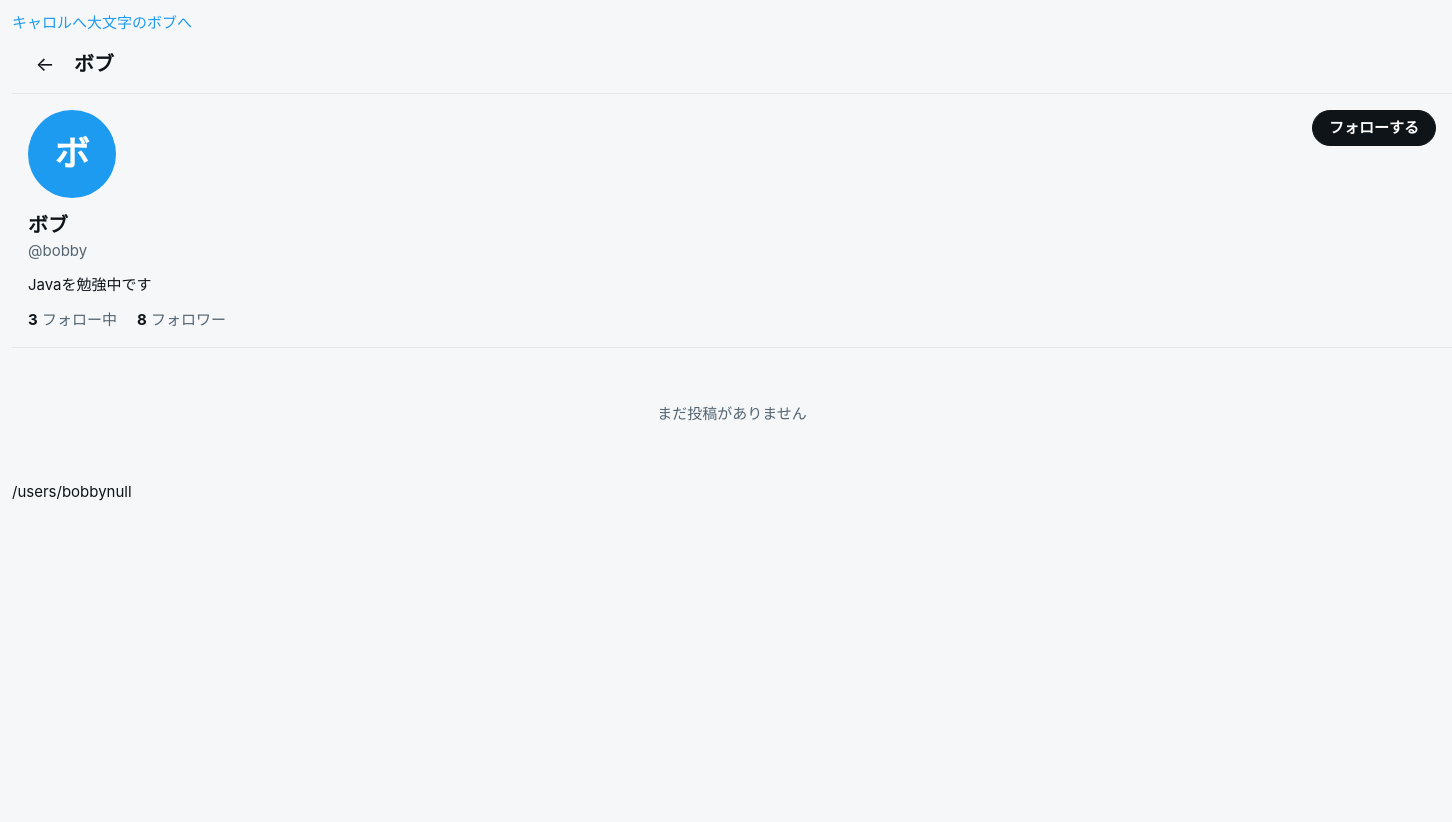
Test case: ProfilePage：プロフィール（状態遷移） › フォローに失敗したら、エラーを知らせる
This screenshot has width=1452, height=822.
Click the button "フォローする". click: (1374, 128)
box: [1312,110,1436,146]
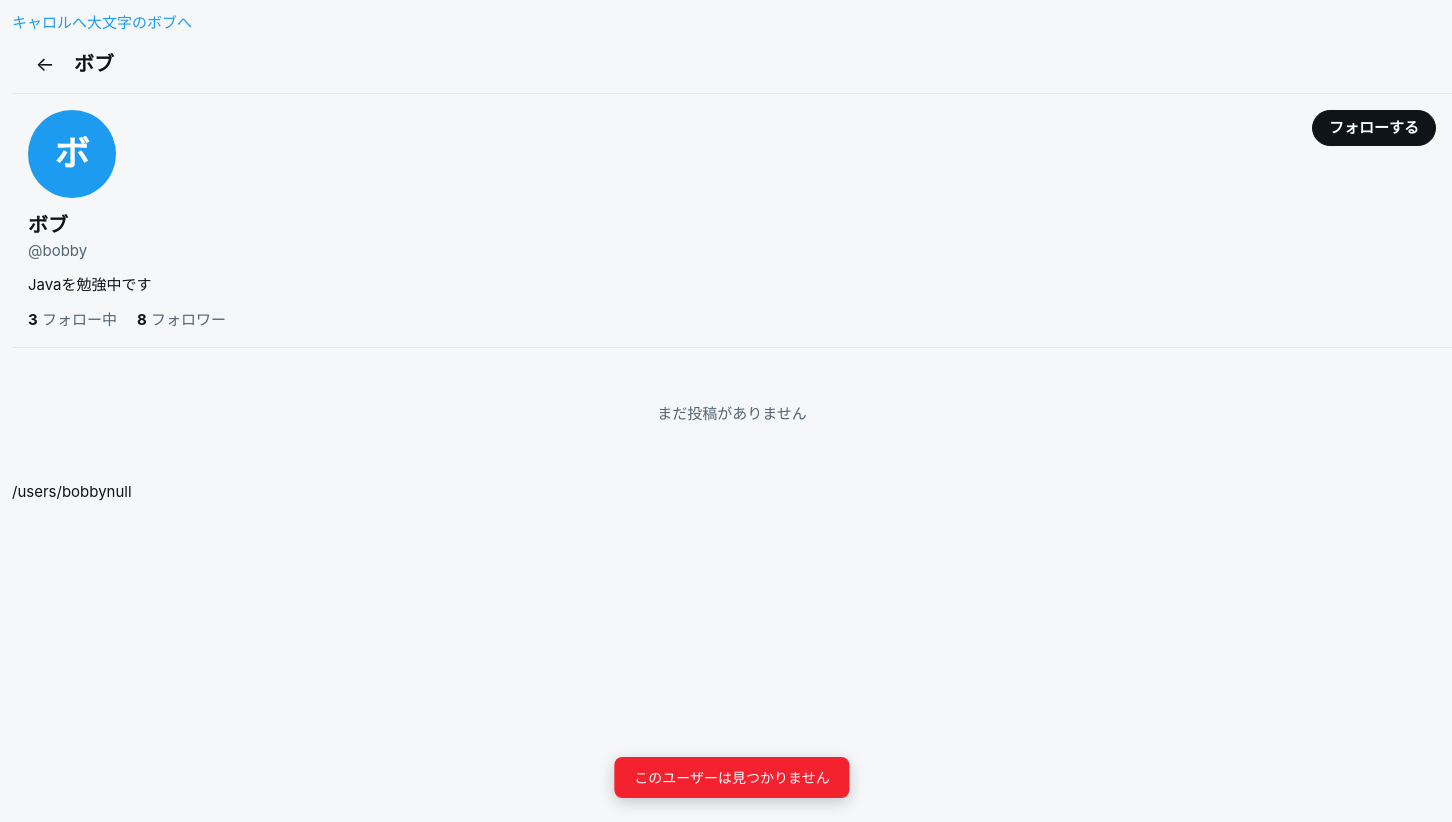
Expected: the text "このユーザーは見つかりません" is shown, [614,757,850,798]
